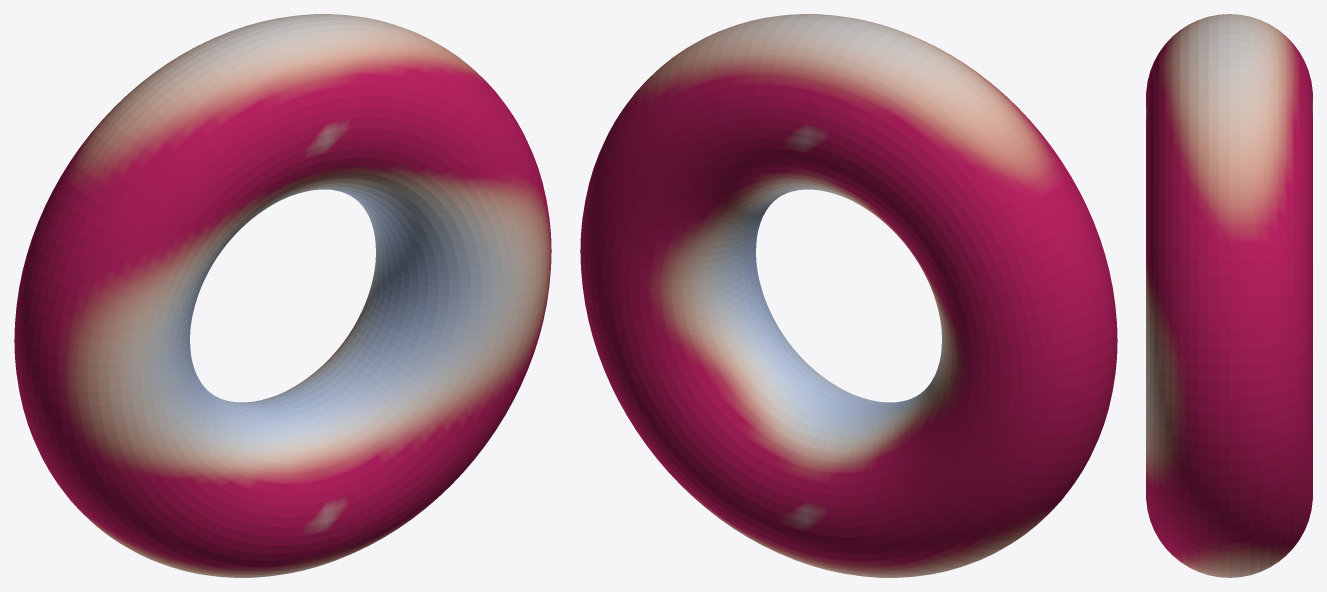
The picture shows the model from 3 angles, left to right: view 1: azimuth 30°, elevation 25°; view 2: azimuth 150°, elevation 25°; view 3: azimuth 270°, elevation 25°; orthographic projection. The views are drawn at different scales.
Visible parts, largest first — view 1: world; view 2: world; view 3: world.
Part boxes in pixels (left/top/right/bottom): world: left=14, top=14, right=551, bottom=577; world: left=580, top=14, right=1117, bottom=577; world: left=1146, top=14, right=1312, bottom=577.
Size of the model in its own units: 27.47 by 27.47 by 8.12.
